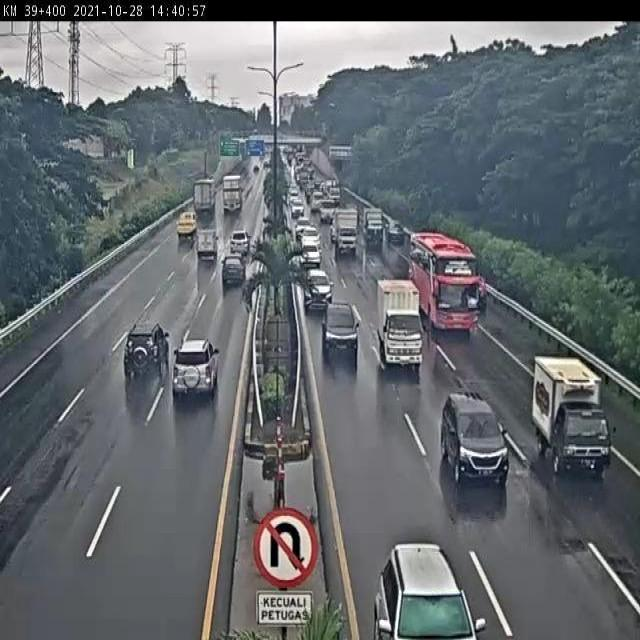bus-l-: (407, 229, 480, 335)
car: (440, 391, 510, 489), (171, 337, 219, 399), (122, 323, 172, 380), (322, 302, 360, 358), (303, 267, 331, 312), (221, 252, 248, 288)
truck-m-: (375, 279, 424, 369)
truck-s-: (531, 355, 612, 481)
